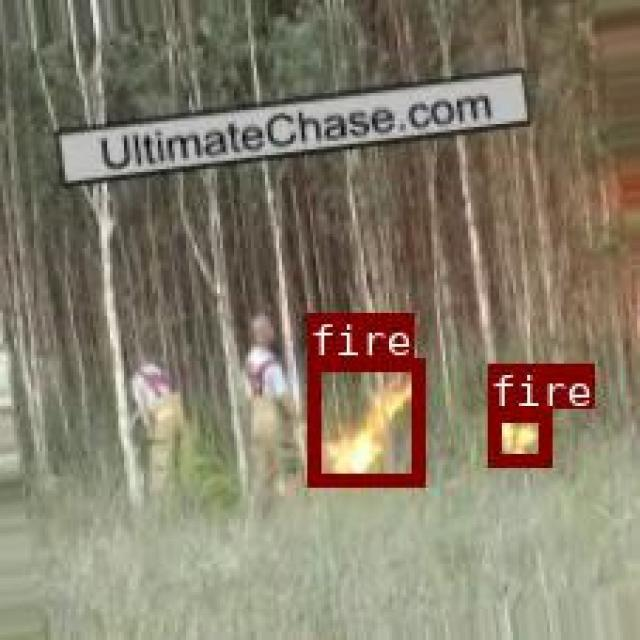fire: (306, 357, 422, 482), (487, 406, 548, 463)
